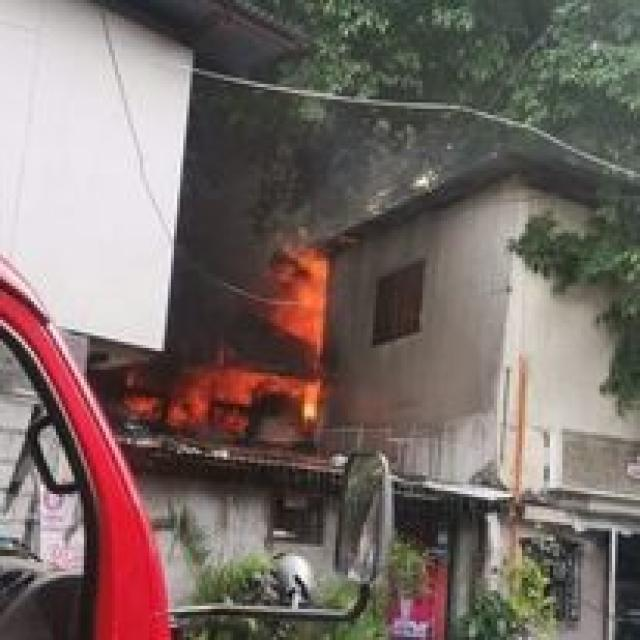Fire: (140, 354, 326, 452), (255, 248, 338, 359)
